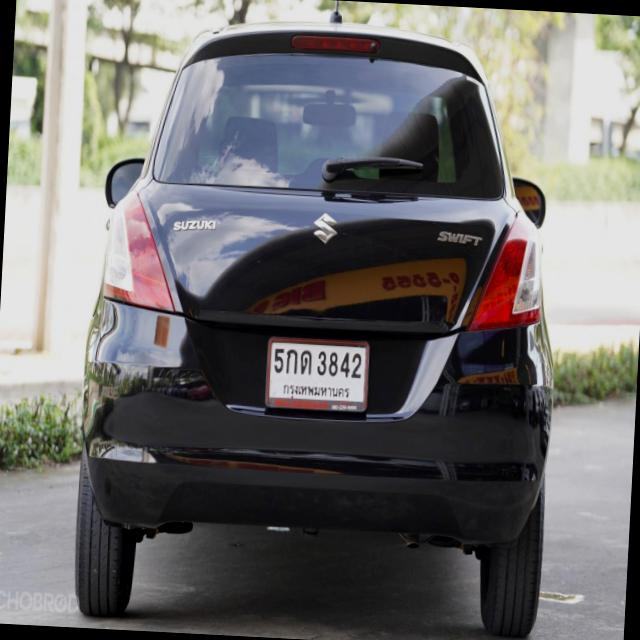license_plate: (266, 334, 370, 414)
